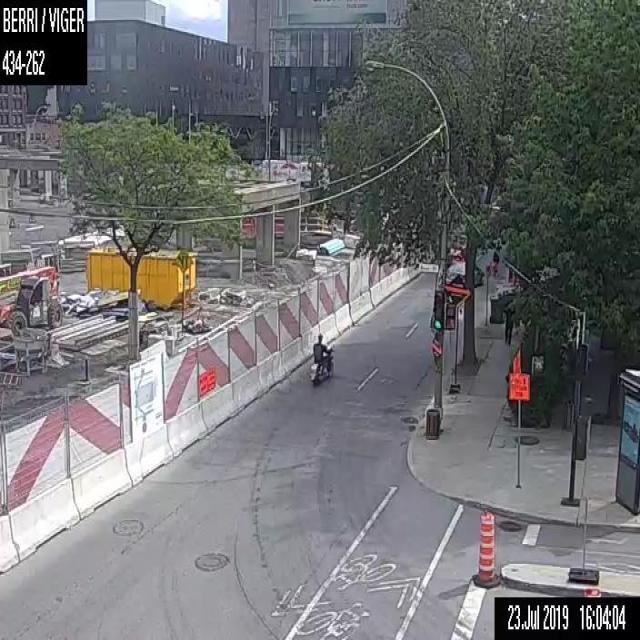construction: (0, 142, 433, 571), (507, 343, 531, 485), (470, 509, 499, 587), (583, 586, 600, 597)
cyclist: (310, 334, 334, 386)
vehicle: (1, 275, 63, 331)
